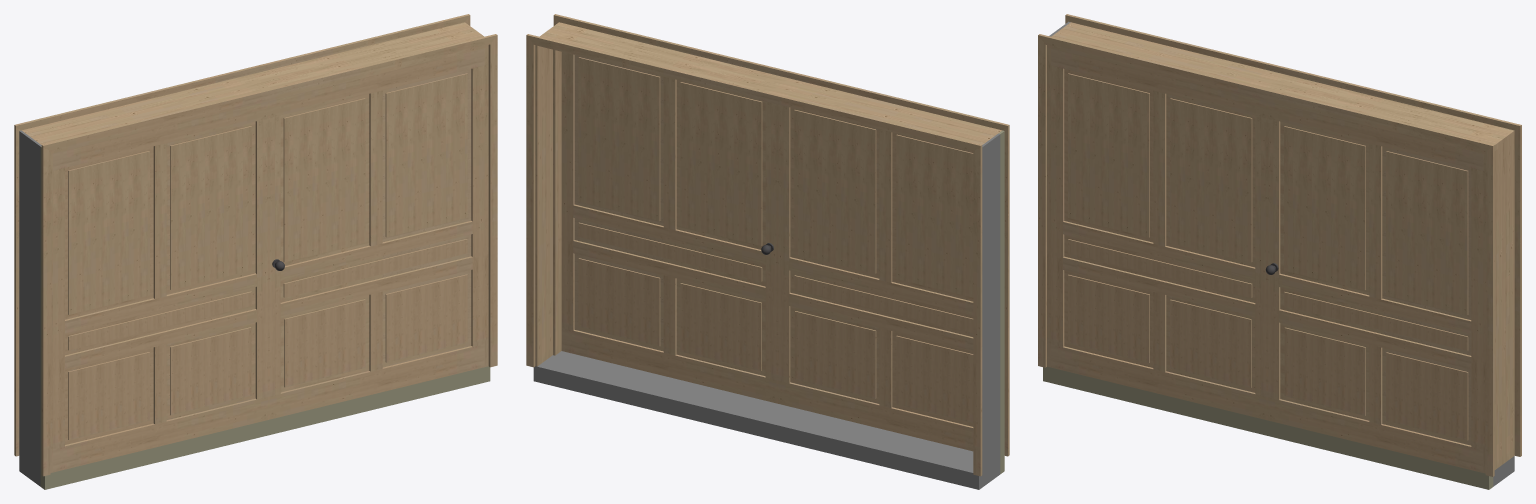
File: Front door.obj
3 views of the same model, side by side, from view 1: azimuth 30°, elevation 25°; view 2: azimuth 150°, elevation 25°; view 3: azimuth 330°, elevation 25° (orthographic).
Visible parts, largest first — view 1: DOOR GROUND_FLOOR WOOD_-_PINE_GRAINED_HORIZONTAL, WALL GROUND_FLOOR PAINT_-_SAND_BEIGE, WALL GROUND_FLOOR PAINT_-_LIGHT_GRAY; view 2: DOOR GROUND_FLOOR WOOD_-_PINE_GRAINED_HORIZONTAL, WALL GROUND_FLOOR PAINT_-_LIGHT_GRAY, WALL GROUND_FLOOR PAINT_-_SAND_BEIGE; view 3: DOOR GROUND_FLOOR WOOD_-_PINE_GRAINED_HORIZONTAL, WALL GROUND_FLOOR PAINT_-_SAND_BEIGE.
Part boxes in pixels (bbox=[...]): DOOR GROUND_FLOOR WOOD_-_PINE_GRAINED_HORIZONTAL: bbox=[14, 14, 497, 476]; WALL GROUND_FLOOR PAINT_-_SAND_BEIGE: bbox=[40, 146, 490, 489]; WALL GROUND_FLOOR PAINT_-_LIGHT_GRAY: bbox=[19, 130, 41, 486]; DOOR GROUND_FLOOR WOOD_-_PINE_GRAINED_HORIZONTAL: bbox=[526, 14, 1009, 476]; WALL GROUND_FLOOR PAINT_-_LIGHT_GRAY: bbox=[533, 133, 1000, 489]; WALL GROUND_FLOOR PAINT_-_SAND_BEIGE: bbox=[998, 130, 1004, 473]; DOOR GROUND_FLOOR WOOD_-_PINE_GRAINED_HORIZONTAL: bbox=[1038, 14, 1521, 476]; WALL GROUND_FLOOR PAINT_-_SAND_BEIGE: bbox=[1043, 366, 1493, 489].
Bounding box in the file's own units: 3.07 × 2.24 × 0.3926.
